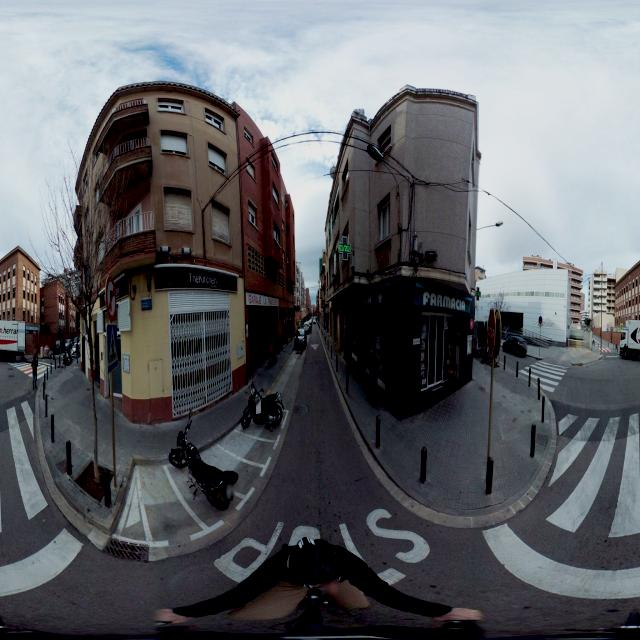car: (499, 332, 530, 358), (294, 329, 306, 350), (303, 318, 311, 334)
